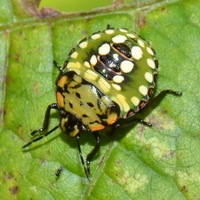insect: (22, 25, 157, 178)
